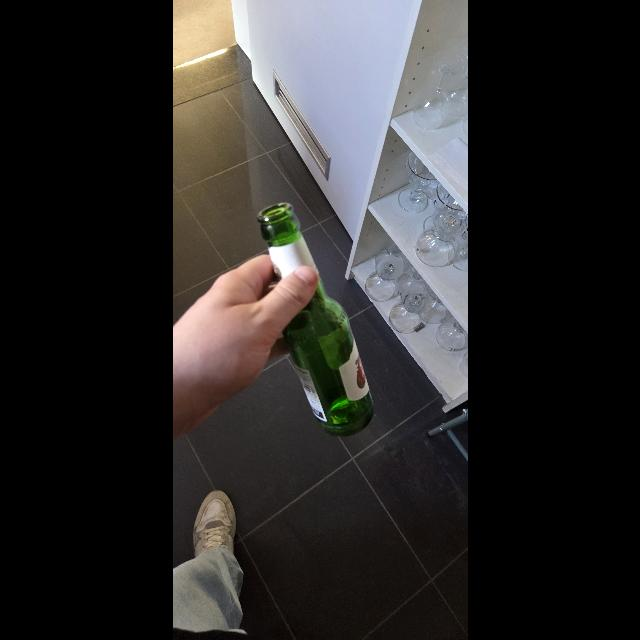Glass: (256, 199, 380, 433), (400, 58, 460, 132), (392, 149, 443, 221), (384, 266, 434, 338), (364, 222, 404, 294), (426, 295, 464, 363), (426, 184, 458, 264)
